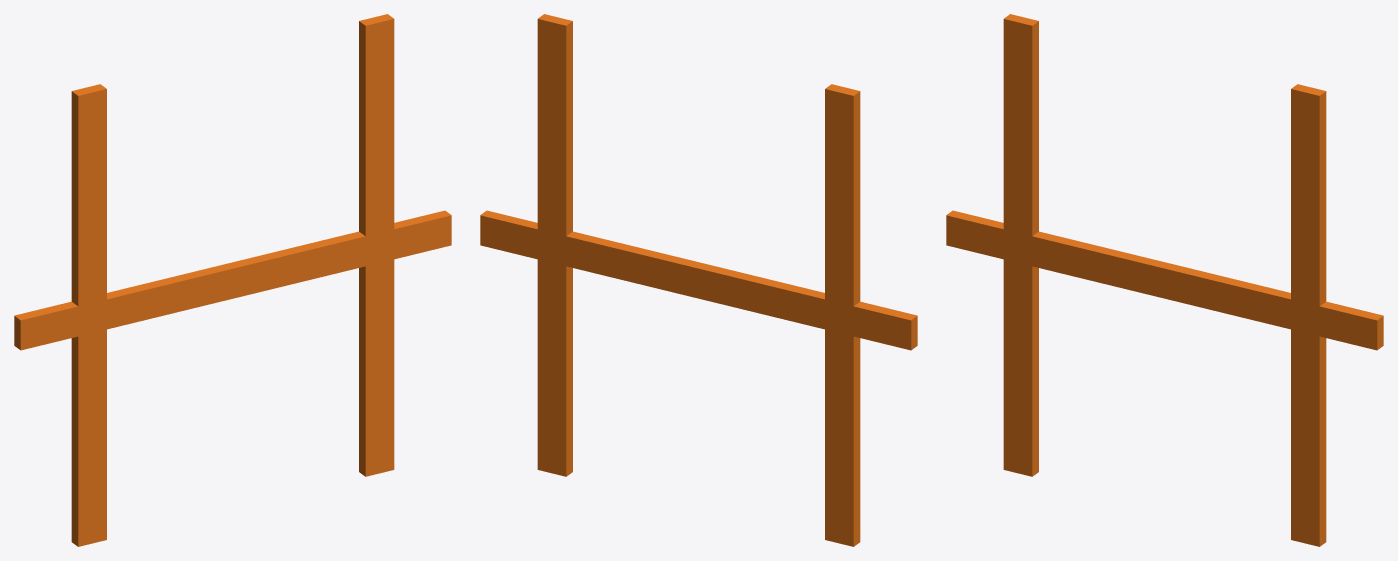
3 renders of one model, left to right at view 1: azimuth 30°, elevation 25°; view 2: azimuth 150°, elevation 25°; view 3: azimuth 330°, elevation 25°, orthographic.
Parts seen in each view (by area): view 1: gripper_frame; view 2: gripper_frame; view 3: gripper_frame.
Part boxes in pixels (x1,y1,x2,y2): gripper_frame: [14, 14, 451, 546]; gripper_frame: [480, 14, 917, 546]; gripper_frame: [946, 14, 1383, 546].
Bounding box in the file's own units: 0.3 × 0.3 × 0.00798.
